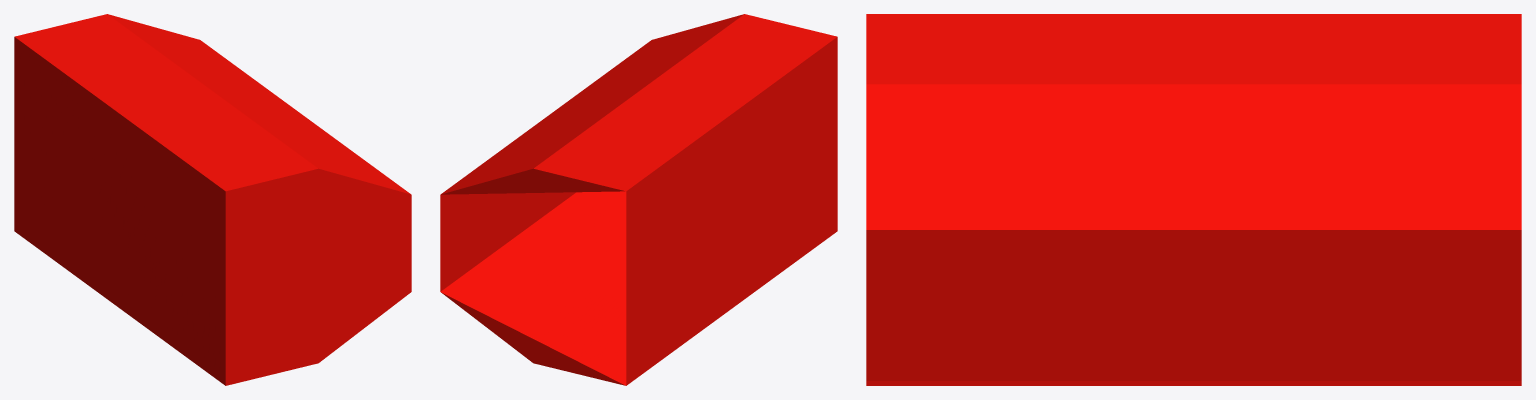
The model's file is car2_planar_robot.dae.
3 views of the same model, side by side, from view 1: azimuth 30°, elevation 25°; view 2: azimuth 150°, elevation 25°; view 3: azimuth 270°, elevation 25° (orthographic). The views are drawn at different scales.
Parts seen in each view (by area): view 1: SketchUp; view 2: SketchUp; view 3: SketchUp.
Boxes of the visible parts, left/top/right/bottom form: SketchUp: left=14, top=14, right=411, bottom=385; SketchUp: left=440, top=14, right=837, bottom=385; SketchUp: left=866, top=14, right=1521, bottom=385.
Size of the model in its own units: 0.04 by 0.0787 by 0.04.
